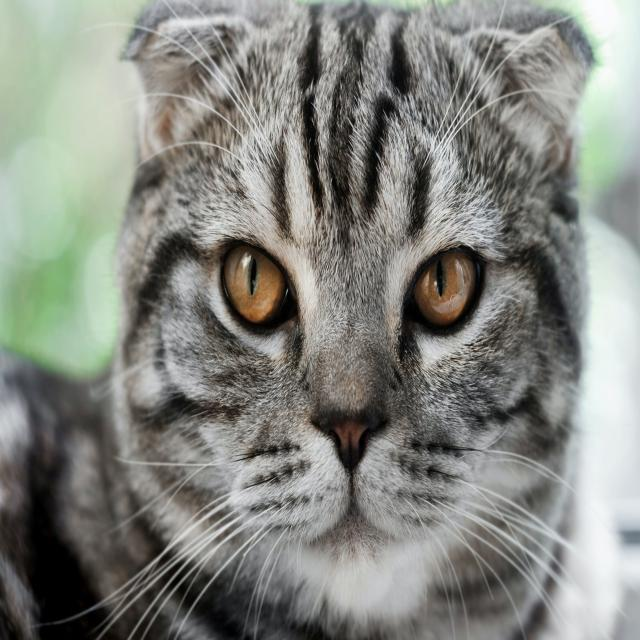Scottish Fold: (0, 0, 629, 640)
